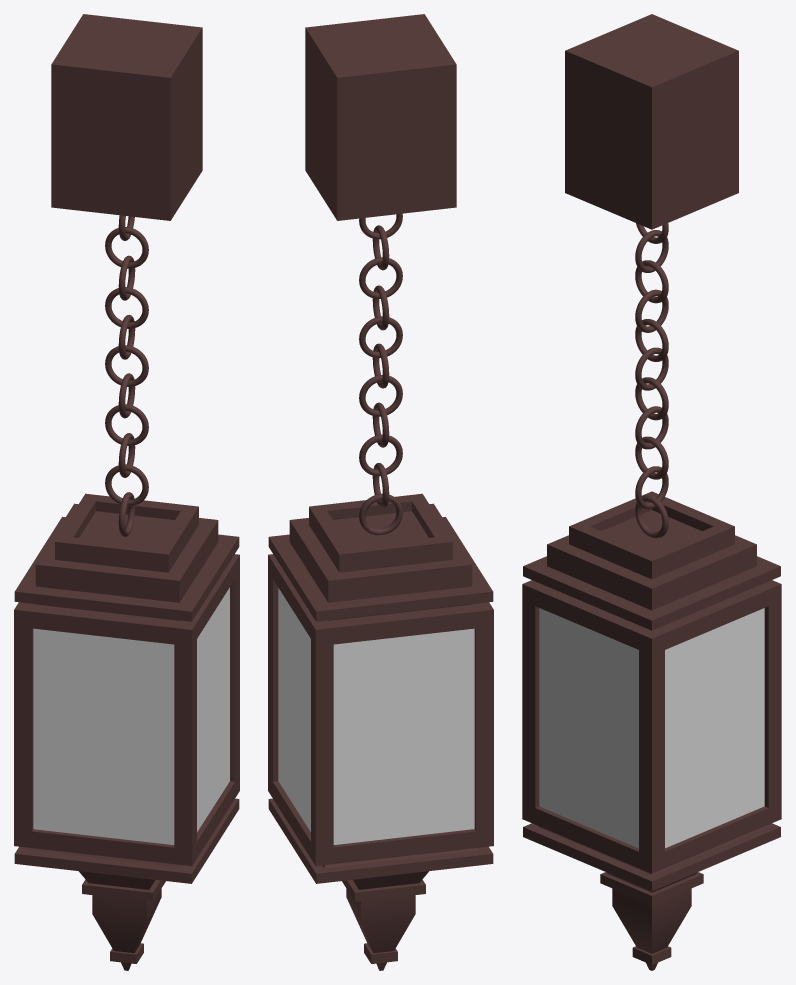
File: lantern.fbx
The picture shows the model from 3 angles, left to right: view 1: azimuth 30°, elevation 25°; view 2: azimuth 150°, elevation 25°; view 3: azimuth 270°, elevation 25°; orthographic projection.
Visible parts, largest first — view 1: Cylinder.006; view 2: Cylinder.006; view 3: Cylinder.006.
Boxes of the visible parts, bbox=[...] form: Cylinder.006: bbox=[14, 14, 239, 970]; Cylinder.006: bbox=[268, 14, 493, 970]; Cylinder.006: bbox=[522, 14, 781, 970].
Bounding box in the file's own units: 2.94 × 11.48 × 2.94.
